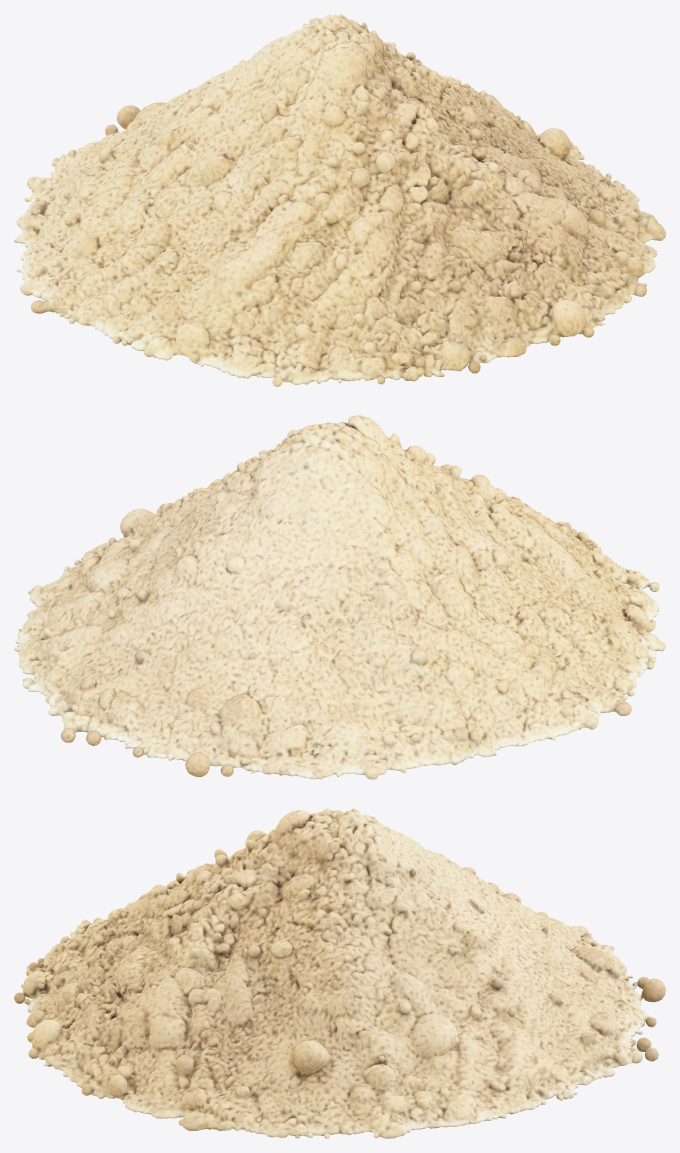
Rendered from lod_basic_shaded.fbx.
The picture shows the model from 3 angles, top to bottom: view 1: azimuth 30°, elevation 25°; view 2: azimuth 150°, elevation 25°; view 3: azimuth 270°, elevation 25°; orthographic projection. The views are drawn at different scales.
Parts seen in each view (by area): view 1: model_LOD0; view 2: model_LOD0; view 3: model_LOD0.
Part boxes in pixels (left/top/right/bottom): model_LOD0: left=14, top=14, right=665, bottom=386; model_LOD0: left=14, top=415, right=665, bottom=779; model_LOD0: left=14, top=808, right=665, bottom=1138.
Size of what is drawn, in the model's own units: 178 by 65.07 by 185.
